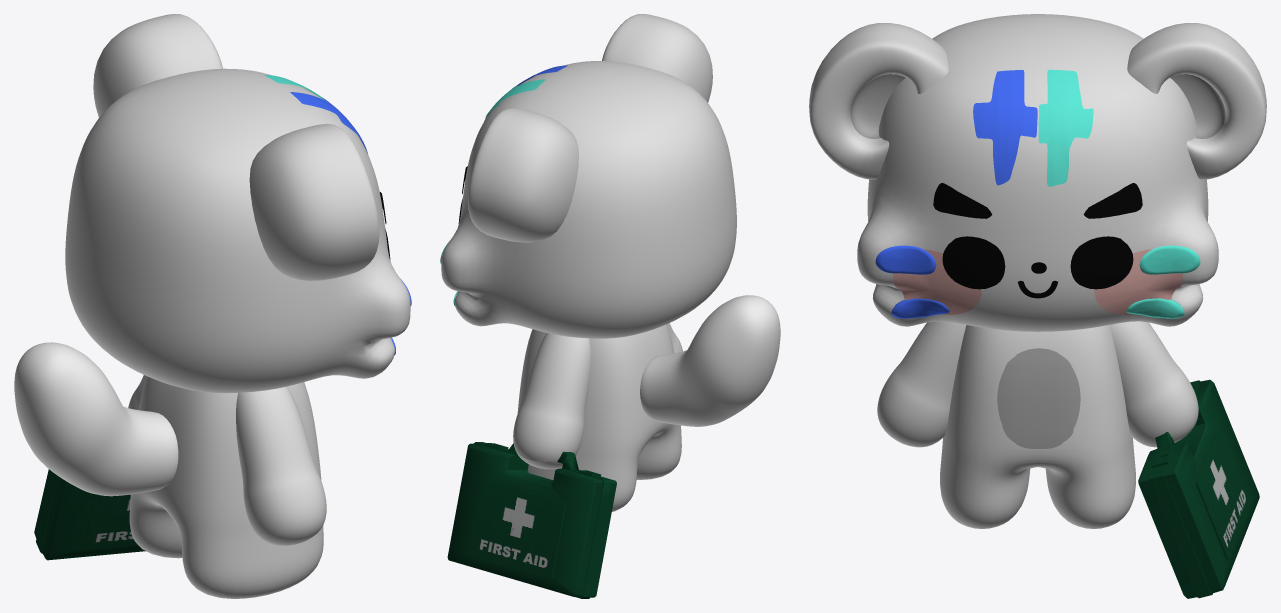
File: hoi_doctor.fbx
3 views of the same model, side by side, from view 1: azimuth 30°, elevation 25°; view 2: azimuth 150°, elevation 25°; view 3: azimuth 270°, elevation 25° (orthographic). The views are drawn at different scales.
Parts seen in each view (by area): view 1: body, tail, Box; view 2: body, Box, tail; view 3: body, Box, eye_right, eye_left.
Boxes of the visible parts, x1=… form: body: x1=65, y1=14, x2=411, y2=598; tail: x1=14, y1=342, x2=178, y2=496; Box: x1=34, y1=469, x2=145, y2=560; body: x1=440, y1=14, x2=736, y2=511; Box: x1=447, y1=442, x2=616, y2=598; tail: x1=640, y1=295, x2=780, y2=426; body: x1=809, y1=14, x2=1266, y2=528; Box: x1=1138, y1=379, x2=1259, y2=598; eye_right: x1=1070, y1=236, x2=1133, y2=289; eye_left: x1=942, y1=236, x2=1005, y2=289.
Size of the model in its own units: 350 by 526 by 406.
11 materials, 2 textured.
